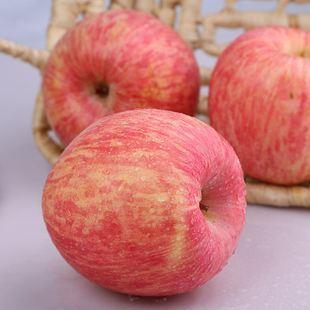apple: (39, 109, 245, 299), (34, 8, 202, 166), (210, 28, 309, 212)
